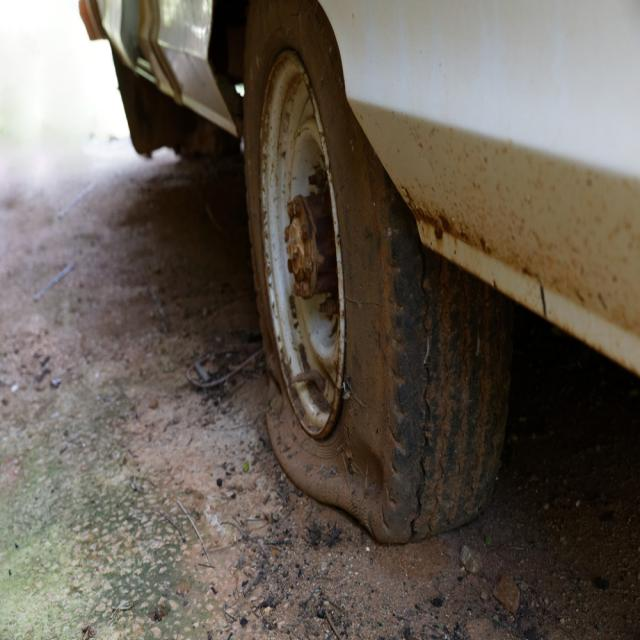tire flat: (243, 0, 509, 541)
